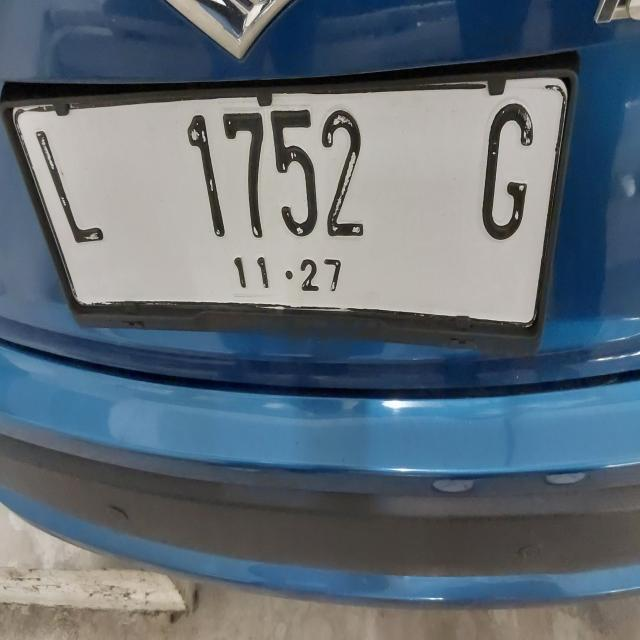1: (178, 98, 236, 254)
2: (316, 96, 372, 260)
5: (266, 95, 323, 248)
7: (217, 100, 274, 250)
G: (459, 79, 554, 257)
L: (31, 100, 118, 274)
